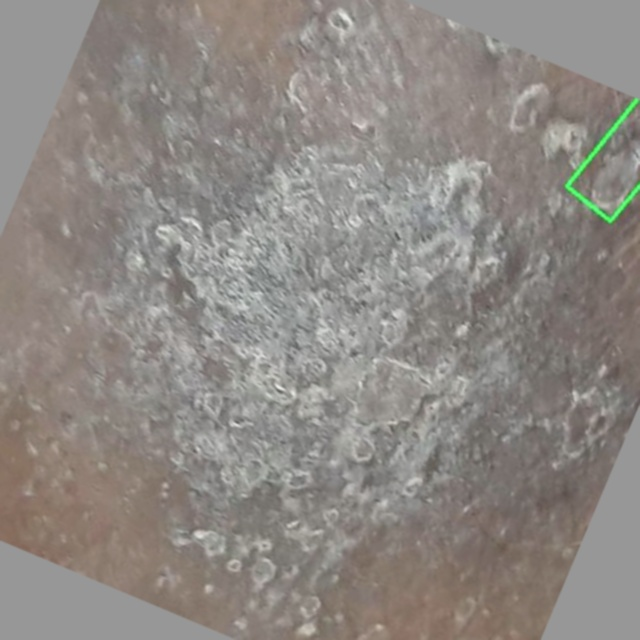Tinea Corporis: (566, 99, 639, 221)
